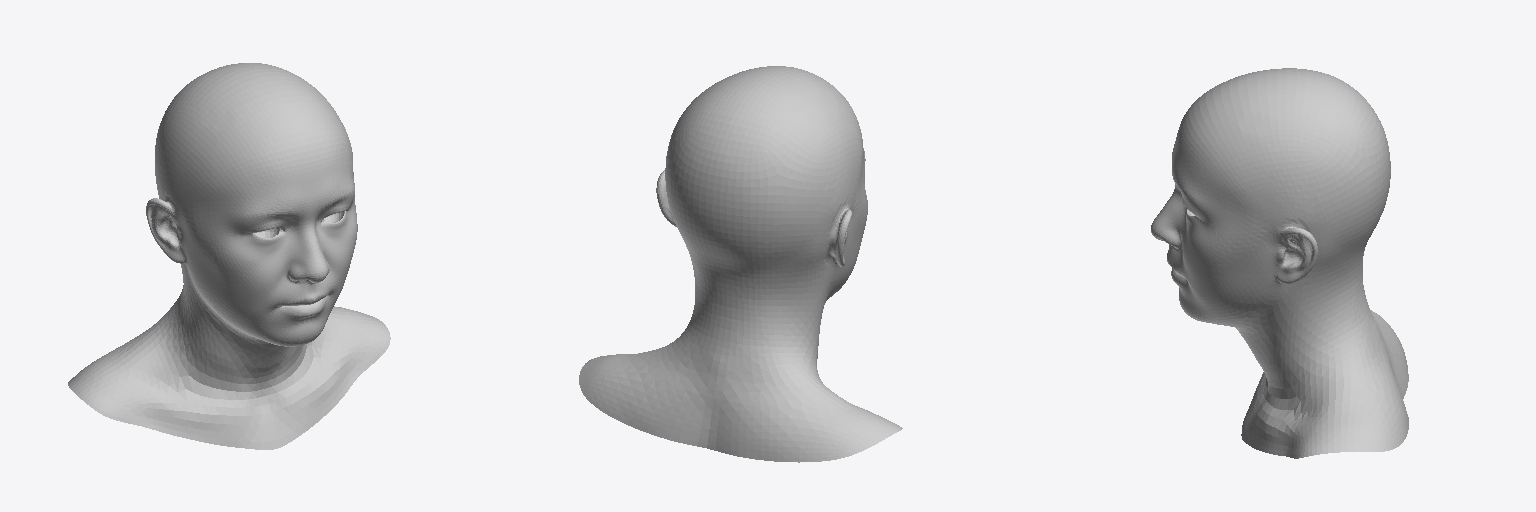
File: 0_no_pose.obj
3 views of the same model, side by side, from view 1: azimuth 30°, elevation 25°; view 2: azimuth 150°, elevation 25°; view 3: azimuth 270°, elevation 25° (orthographic).
Bounding box in the file's own units: 2.94 × 3.3 × 2.16.